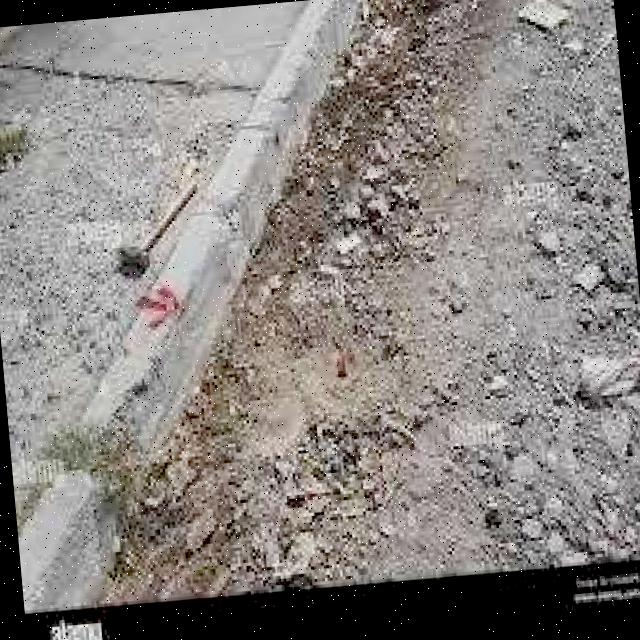curb: (3, 302, 259, 612), (132, 185, 309, 326), (244, 1, 387, 167)
